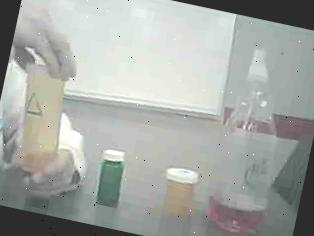Bottle A: (0, 51, 88, 188)
Bottle B: (154, 162, 205, 228)
Bottle C: (87, 142, 139, 213)
hazard: (197, 33, 314, 236)
